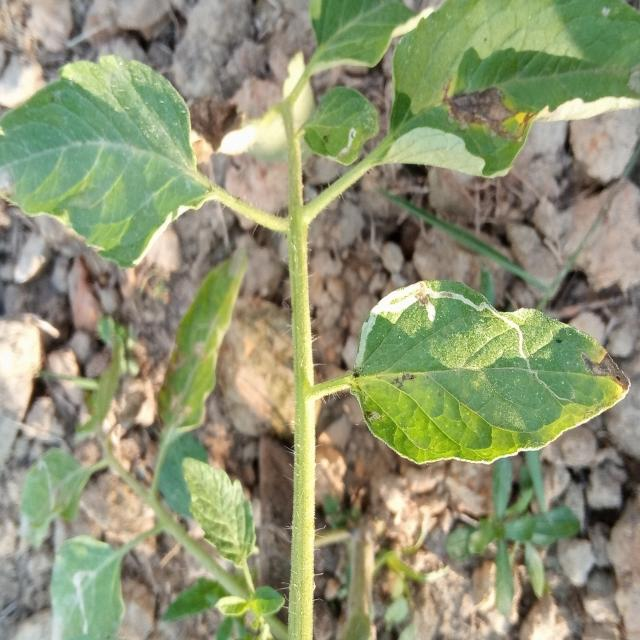Tuta absoluta: (356, 281, 529, 366)
